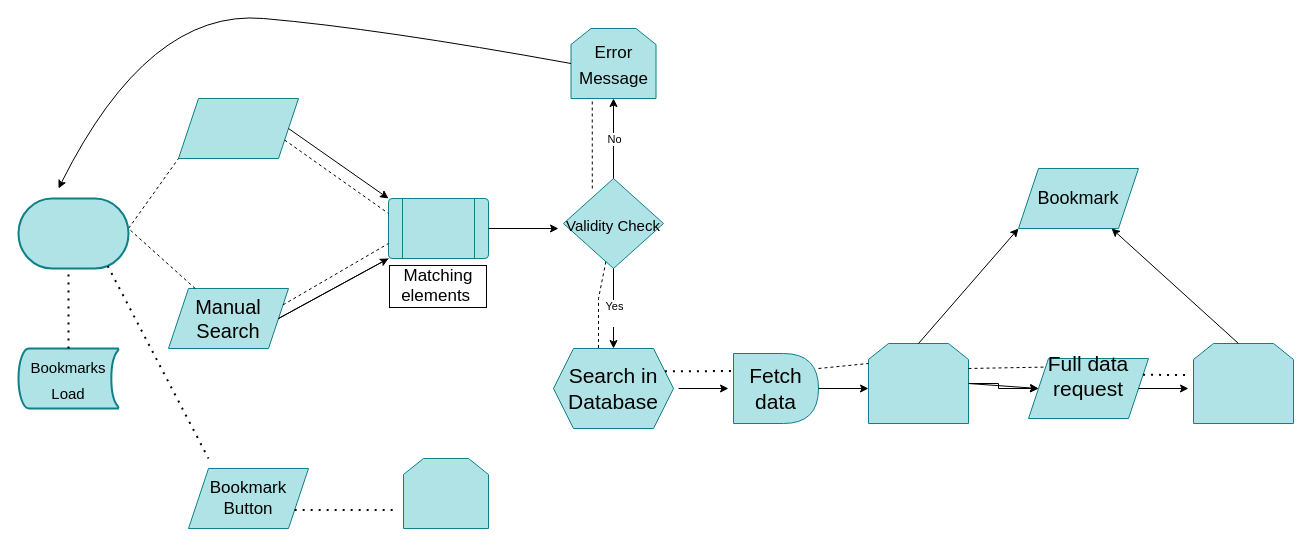
Image size: 1311x546. Some labels were removed from this diagram. Here are the shapes that lost their labels. From the top down, the centre of each, then its label:
At (238,128): "Search from Table".
At (73,233): "App loads".
At (918,383): "Render Partial Data".
At (1243,383): "Render Full Data".
At (445,493): "Bookmarked items".
